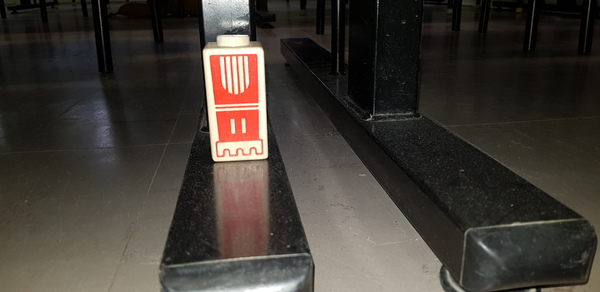tourRouge: (207, 34, 269, 161)
